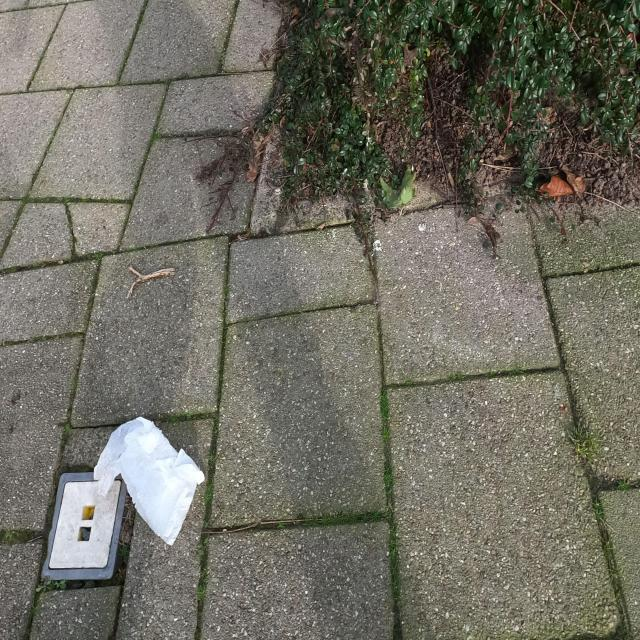Paper: (94, 415, 206, 547)
